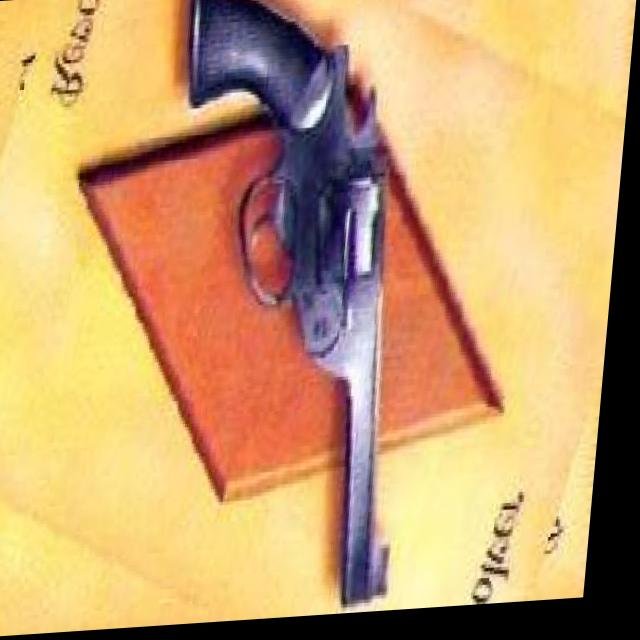handgun: (148, 0, 448, 620)
